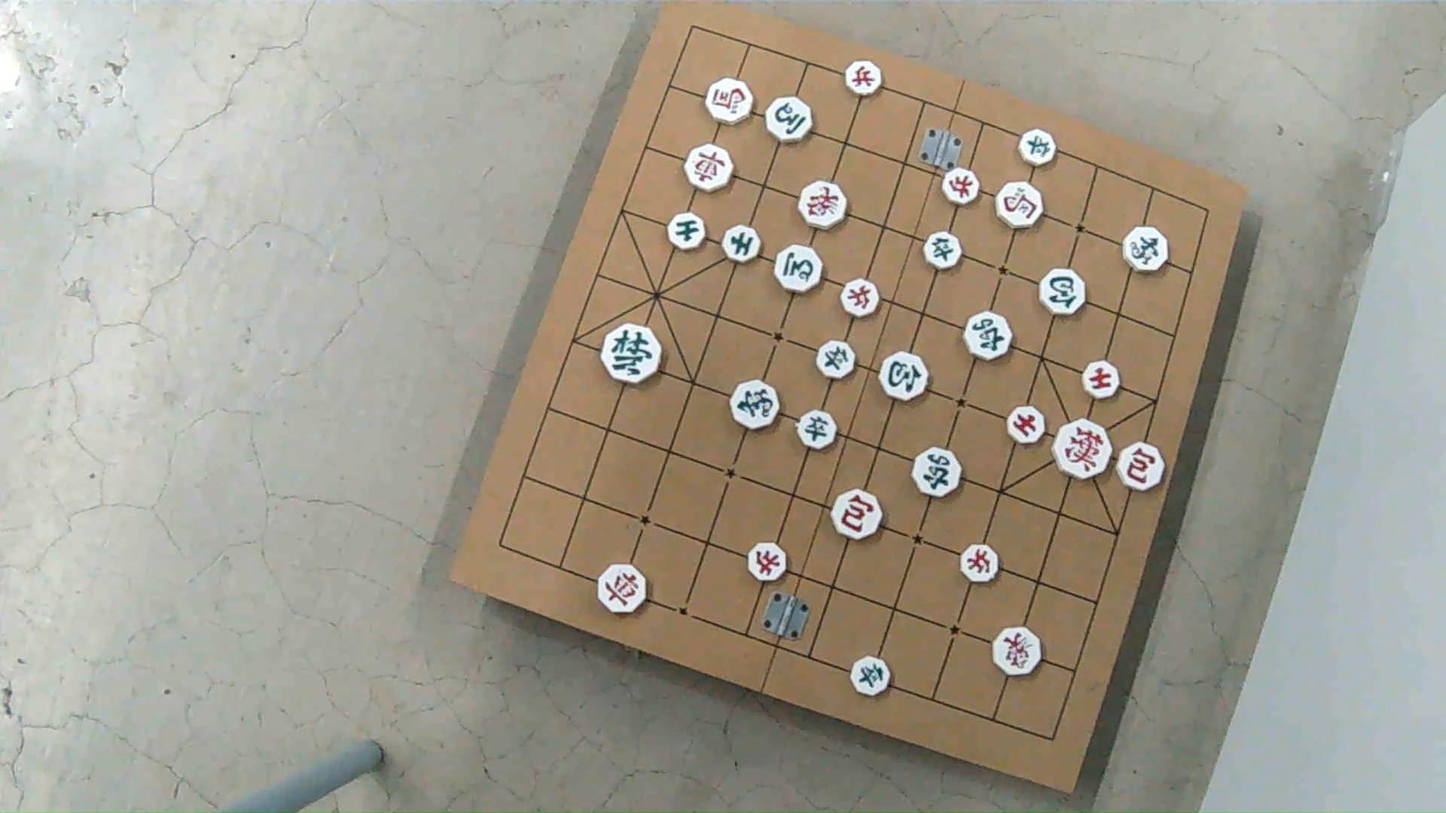cha_green: (914, 446, 962, 497), (963, 312, 1011, 361)
cha_red: (598, 565, 647, 614), (687, 145, 735, 192)
jol_green: (850, 659, 890, 697), (798, 411, 836, 450), (817, 340, 856, 377), (926, 233, 963, 272), (1020, 129, 1057, 166)
jol_red: (746, 541, 785, 581), (959, 543, 999, 580), (843, 280, 881, 318), (944, 169, 981, 206), (846, 61, 883, 97)
ma_green: (773, 245, 822, 292), (765, 96, 812, 142)
ma_red: (996, 182, 1044, 229), (704, 78, 752, 123)
po_green: (880, 352, 928, 401), (1038, 268, 1084, 316)
po_red: (833, 489, 883, 540), (1115, 442, 1164, 489)
sa_green: (667, 215, 706, 253), (724, 224, 761, 261)
sa_red: (1083, 360, 1121, 399), (1009, 406, 1047, 444)
sang_green: (731, 381, 779, 430), (1125, 225, 1171, 271)
sang_red: (995, 629, 1043, 677), (797, 182, 845, 230)
wang_green: (603, 322, 662, 383)
wang_red: (1052, 419, 1109, 479)
